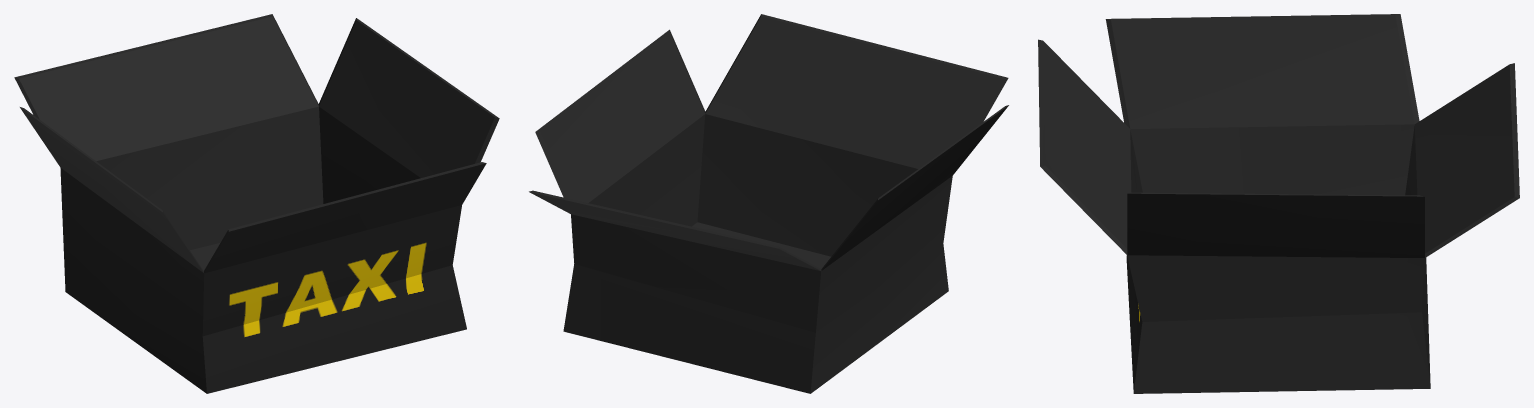
File: box_taxi 1.fbx
The picture shows the model from 3 angles, left to right: view 1: azimuth 30°, elevation 25°; view 2: azimuth 150°, elevation 25°; view 3: azimuth 270°, elevation 25°; orthographic projection. The views are drawn at different scales.
Parts seen in each view (by area): view 1: box; view 2: box; view 3: box.
Boxes of the visible parts, x1,y1,x2,y2 form: box: (14,14,499,393); box: (529,14,1008,393); box: (1038,14,1519,393).
Size of the model in its own units: 0.5119 by 0.2918 by 0.5845.
